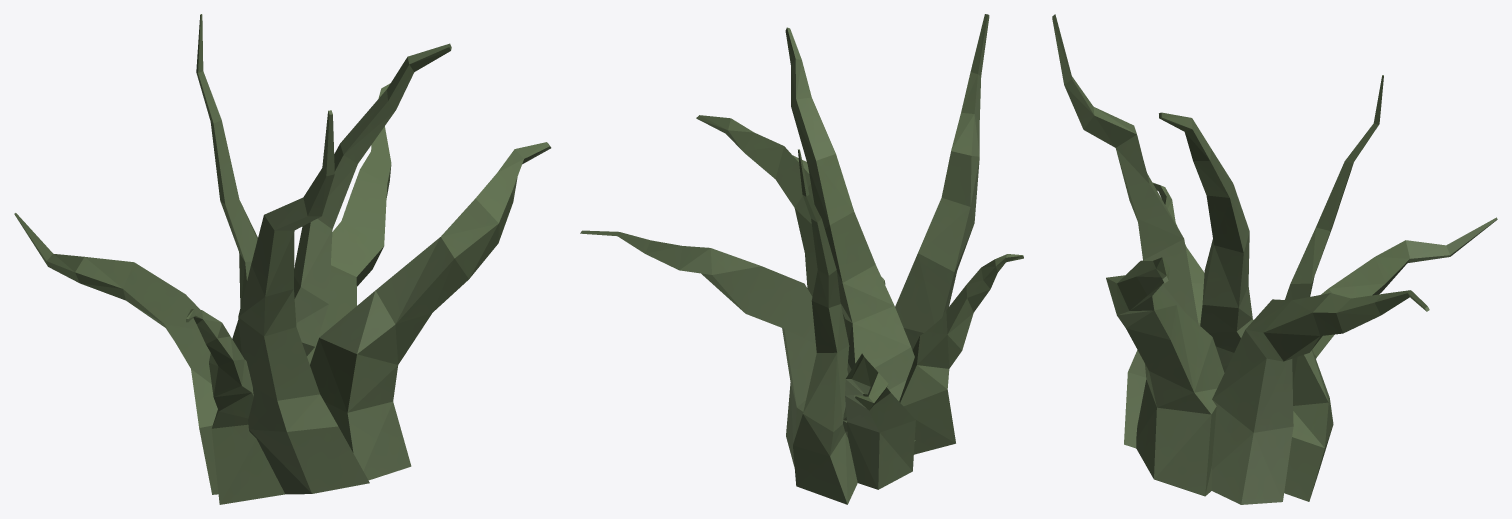
Rendered from grass_green_4.obj.
The picture shows the model from 3 angles, left to right: view 1: azimuth 30°, elevation 25°; view 2: azimuth 150°, elevation 25°; view 3: azimuth 270°, elevation 25°; orthographic projection. The views are drawn at different scales.
Visible parts, largest first — view 1: grass_green_4_Mesh; view 2: grass_green_4_Mesh; view 3: grass_green_4_Mesh.
Boxes of the visible parts, x1,y1,x2,y2 form: grass_green_4_Mesh: (14,14,551,504); grass_green_4_Mesh: (580,14,1023,504); grass_green_4_Mesh: (1052,14,1497,504).
Size of the model in its own units: 0.4941 by 0.6024 by 0.541.
